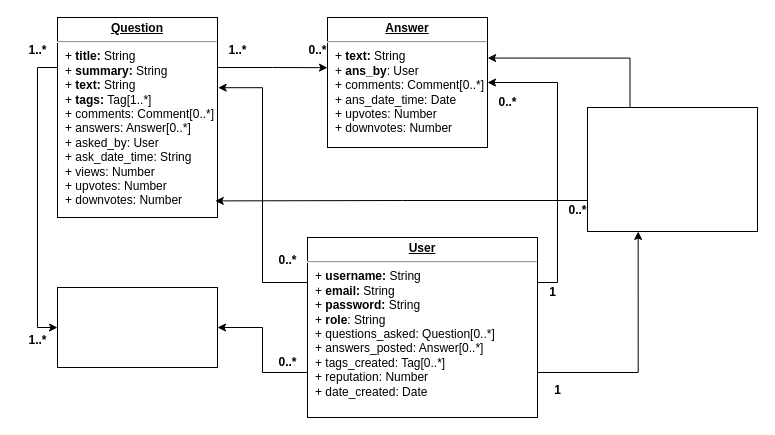
The diagram is 775 pixels wide and 435 high, and some of its shapes have lost their labels. Each missing label, with the box of its shape:
Comments + commenter: User + text: String + votes : Number: (586, 106, 758, 232)
Tag + name: String + created_by: User[1..*]: (56, 286, 218, 368)
